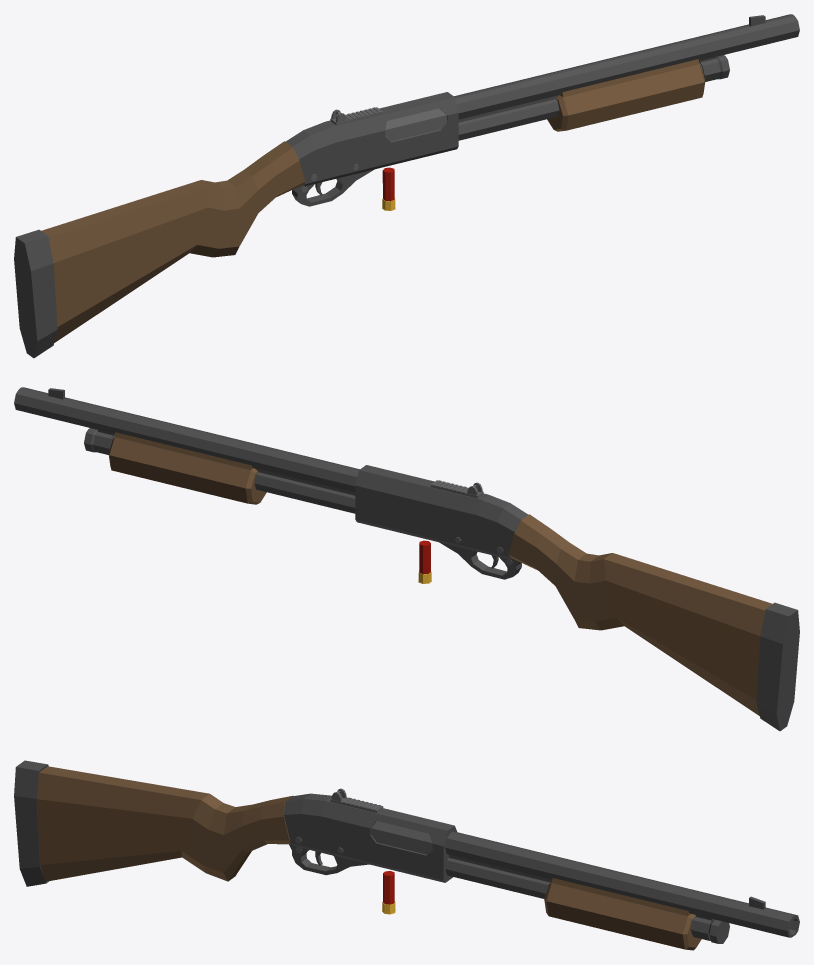
Rendered from Remington 870.fbx.
3 views of the same model, one above another, from view 1: azimuth 30°, elevation 25°; view 2: azimuth 150°, elevation 25°; view 3: azimuth 330°, elevation 25° (orthographic).
Parts seen in each view (by area): view 1: Remington 870; view 2: Remington 870; view 3: Remington 870, Bullet.000.
Part boxes in pixels (x1,y1,x2,y2): Remington 870: [14, 14, 799, 358]; Remington 870: [14, 387, 799, 731]; Remington 870: [14, 760, 799, 950]; Bullet.000: [382, 871, 395, 914].
Bounding box in the file's own units: 901 × 188 × 44.14.
1 material, 1 textured.
